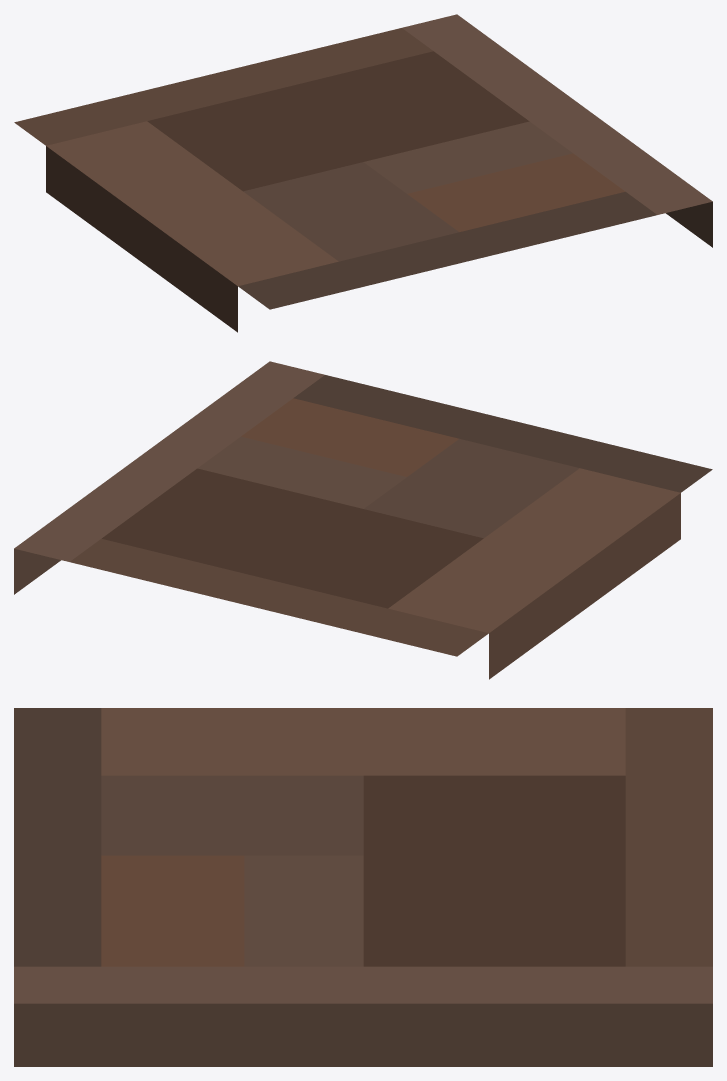
Rendered from Floor_PlanksTurnA_LOD2.fbx.
3 renders of one model, top to bottom at view 1: azimuth 30°, elevation 25°; view 2: azimuth 150°, elevation 25°; view 3: azimuth 270°, elevation 25°, orthographic. The views are drawn at different scales.
Visible parts, largest first — view 1: Floor_PlanksTurnA_LOD2; view 2: Floor_PlanksTurnA_LOD2; view 3: Floor_PlanksTurnA_LOD2.
Boxes of the visible parts, <box> form: Floor_PlanksTurnA_LOD2: <box>14,14,712,332</box>; Floor_PlanksTurnA_LOD2: <box>14,361,712,679</box>; Floor_PlanksTurnA_LOD2: <box>14,708,712,1066</box>.
Bounding box in the file's own units: 250 × 25 × 250.
